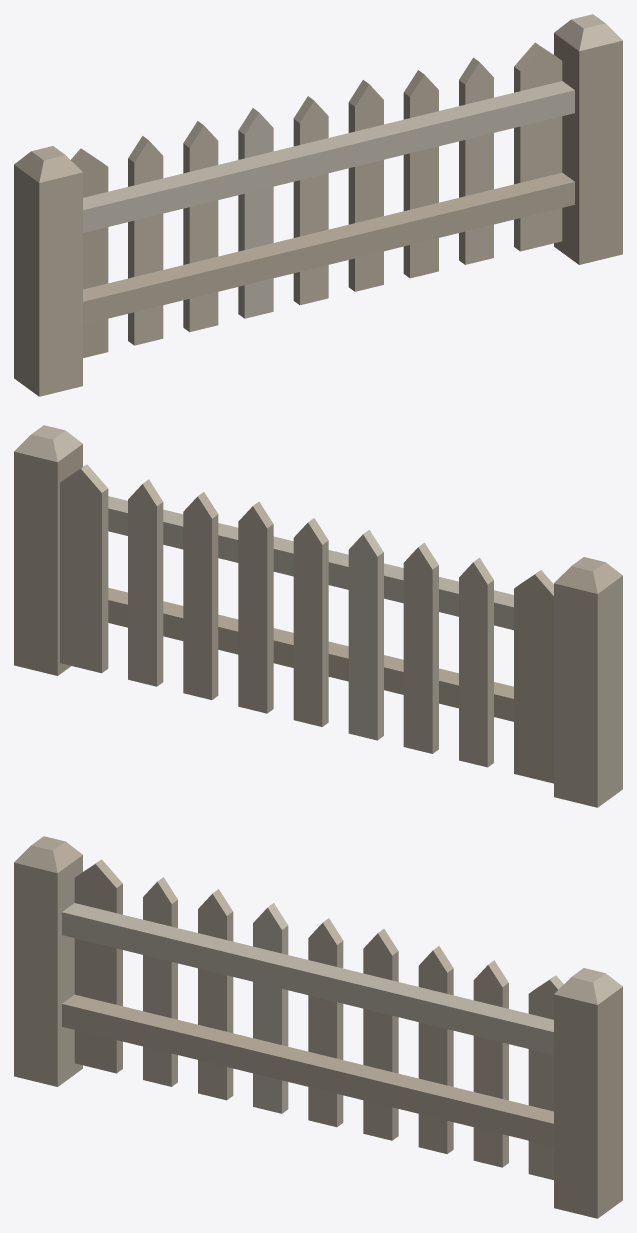
Rendered from Fence.glb.
3 renders of one model, top to bottom at view 1: azimuth 30°, elevation 25°; view 2: azimuth 150°, elevation 25°; view 3: azimuth 330°, elevation 25°, orthographic.
Parts seen in each view (by area): view 1: Wood; view 2: Wood; view 3: Wood.
Part boxes in pixels (x1=…): Wood: x1=14, y1=14, x2=622, y2=396; Wood: x1=14, y1=425, x2=622, y2=807; Wood: x1=14, y1=836, x2=622, y2=1218.
Size of what is drawn, in the model's own units: 8 by 3 by 0.6.
